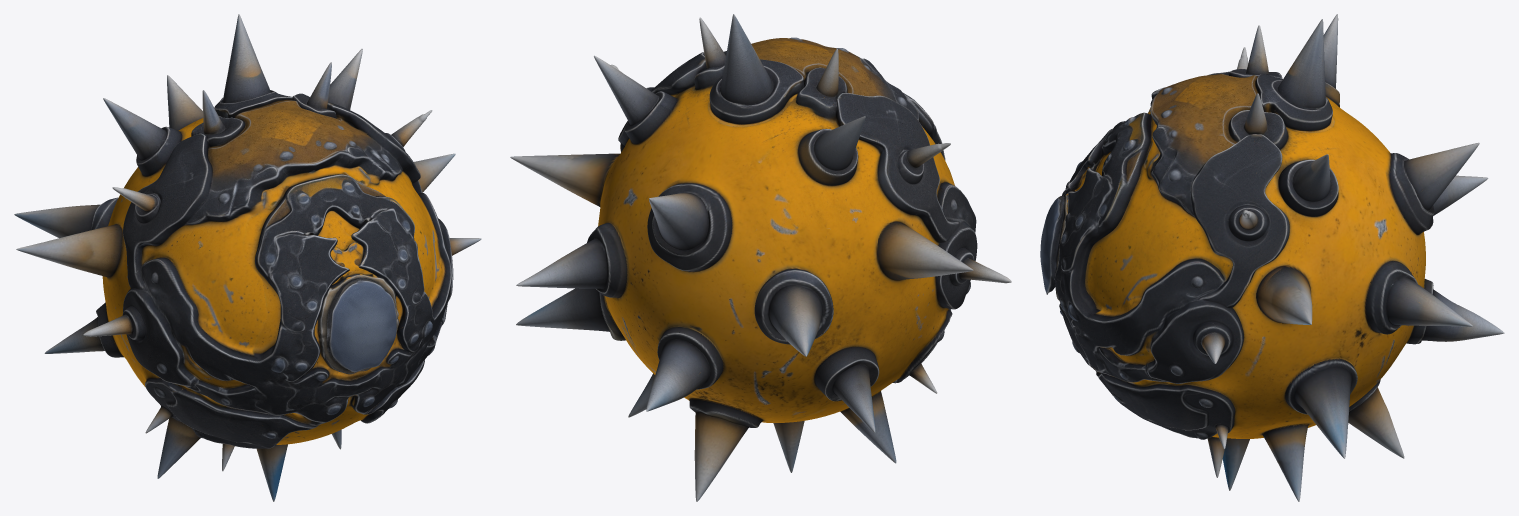
File: weapon.glb
The picture shows the model from 3 angles, left to right: view 1: azimuth 30°, elevation 25°; view 2: azimuth 150°, elevation 25°; view 3: azimuth 270°, elevation 25°; orthographic projection. The views are drawn at different scales.
Size of the model in its own units: 1.9 by 1.9 by 1.68.
1 material, 1 textured.
